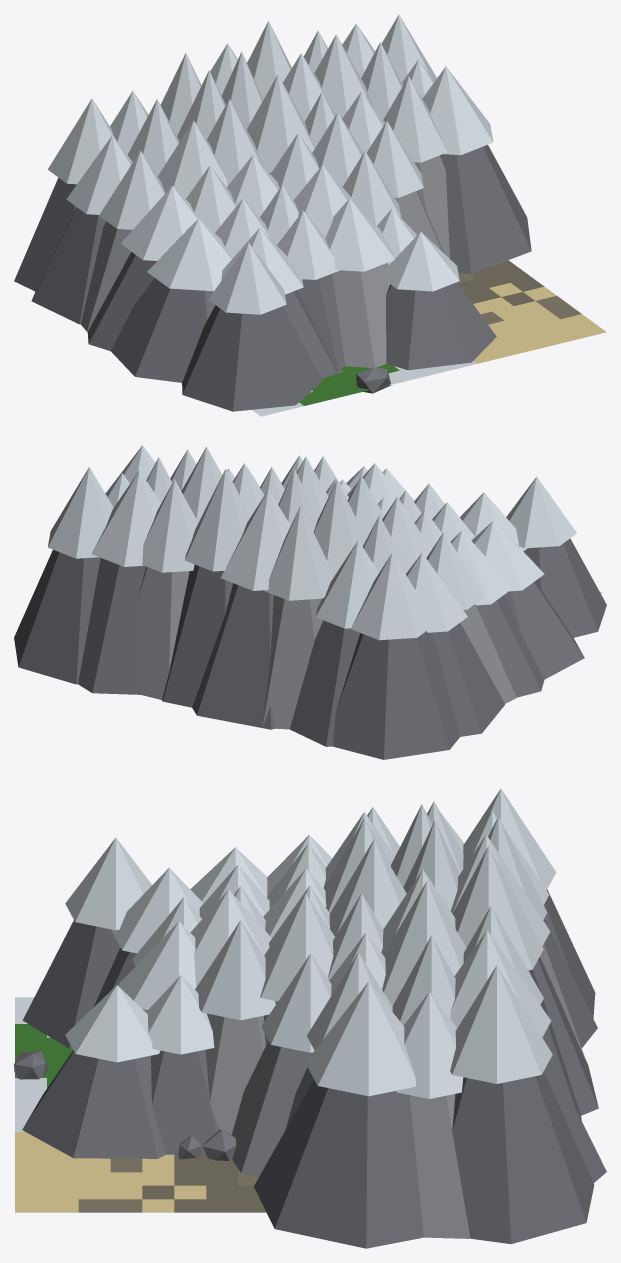
File: chunk_11_0.glb
3 renders of one model, top to bottom at view 1: azimuth 30°, elevation 25°; view 2: azimuth 150°, elevation 25°; view 3: azimuth 270°, elevation 25°, orthographic. The views are drawn at different scales.
Parts seen in each view (by area): view 1: chunk_11_0; view 2: chunk_11_0; view 3: chunk_11_0.
Boxes of the visible parts, x1,y1,x2,y2 form: chunk_11_0: (14,14,606,416); chunk_11_0: (14,445,606,759); chunk_11_0: (14,788,606,1248).
Bounding box in the file's own units: 21.23 × 9.81 × 18.61.
